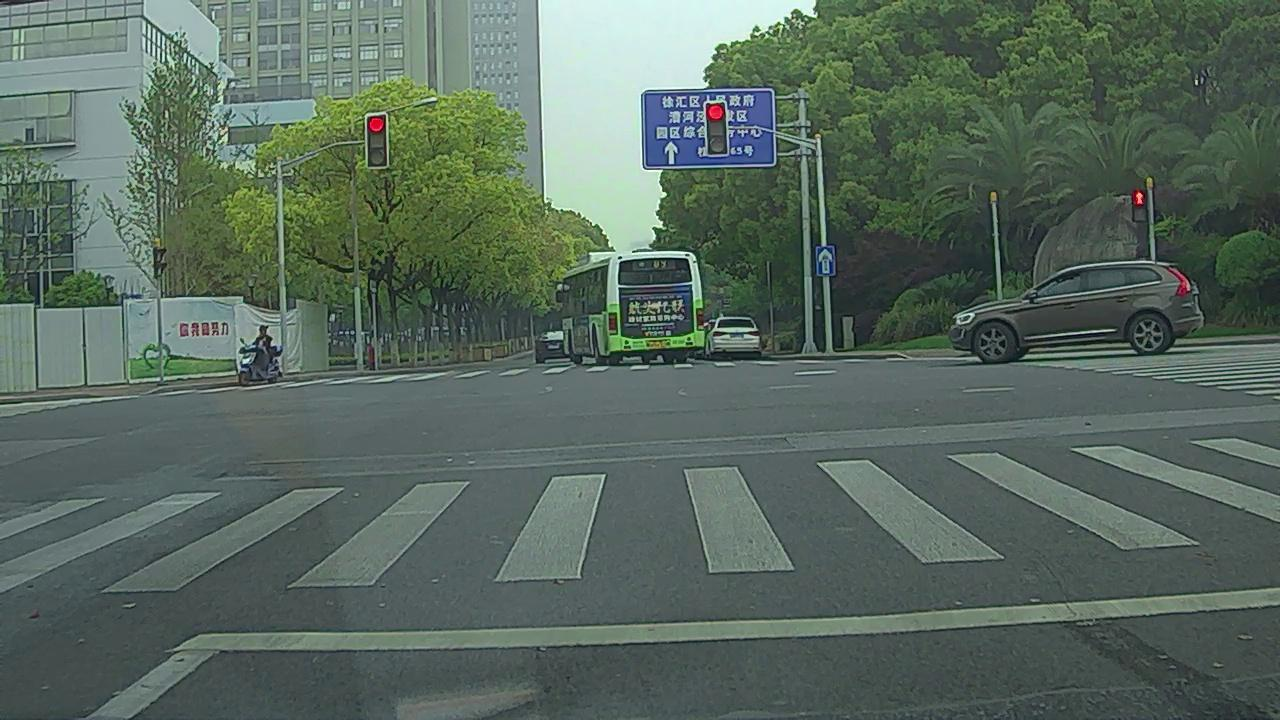traffic_light: (366, 112, 388, 168), (708, 103, 727, 155)
